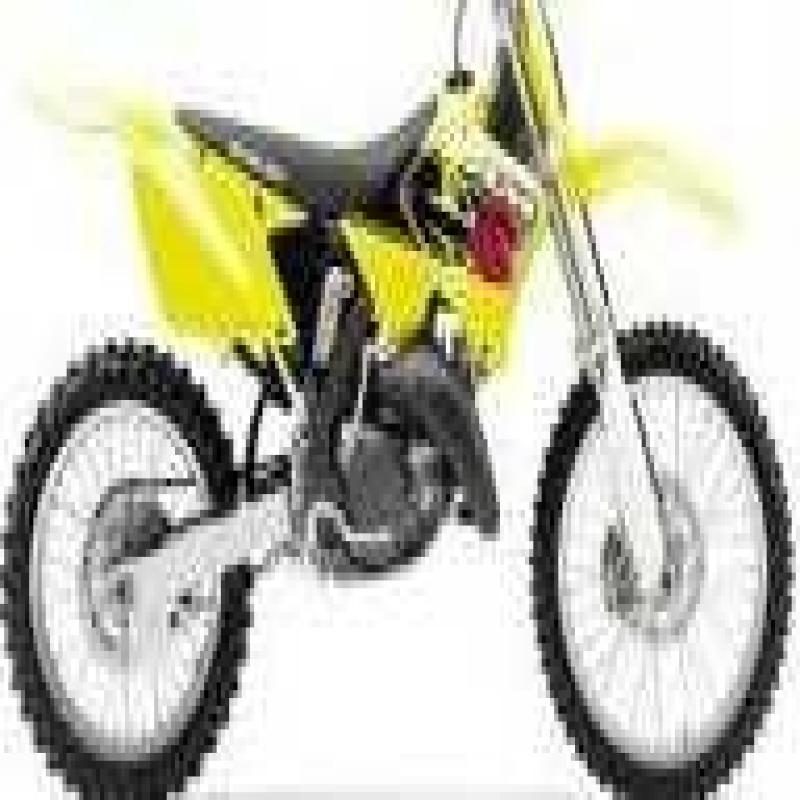bike: (10, 10, 772, 790)
